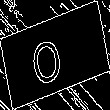O_N: (37, 25, 73, 85)
